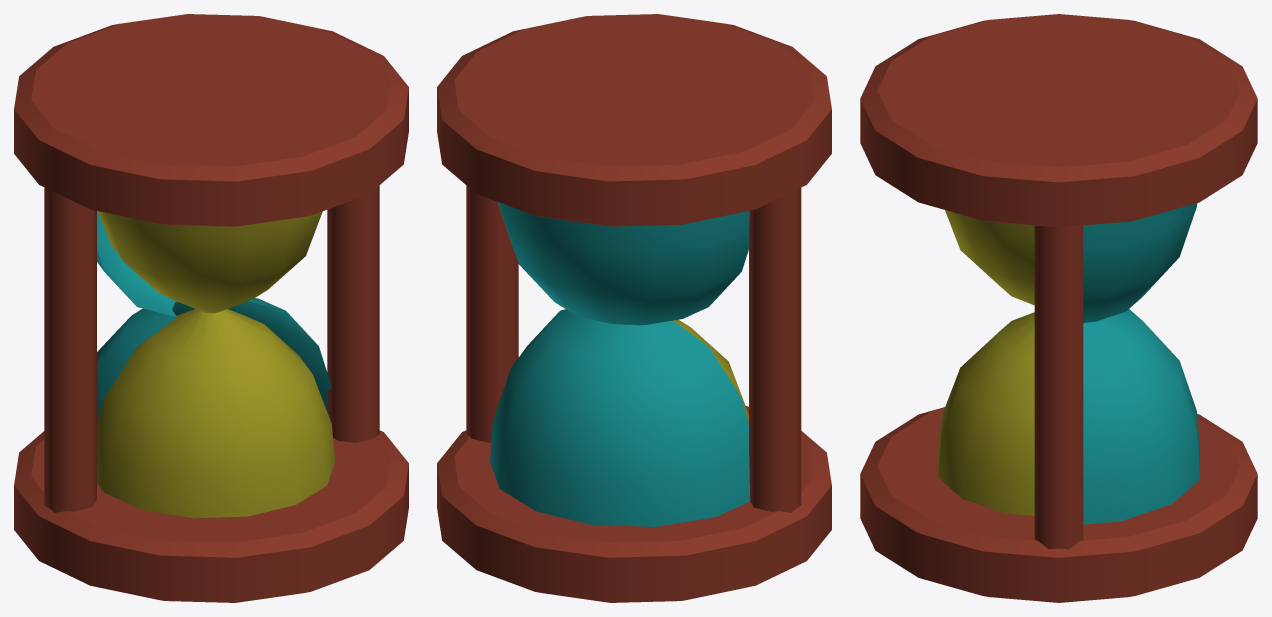
Rendered from hourglass_01.fbx.
3 views of the same model, side by side, from view 1: azimuth 30°, elevation 25°; view 2: azimuth 150°, elevation 25°; view 3: azimuth 270°, elevation 25° (orthographic).
Parts seen in each view (by area): view 1: hourglass_01; view 2: hourglass_01; view 3: hourglass_01.
Part boxes in pixels (x1,y1,x2,y2): hourglass_01: [14, 14, 408, 602]; hourglass_01: [437, 14, 831, 602]; hourglass_01: [860, 14, 1257, 602].
Size of the model in its own units: 194 by 235 by 194.
